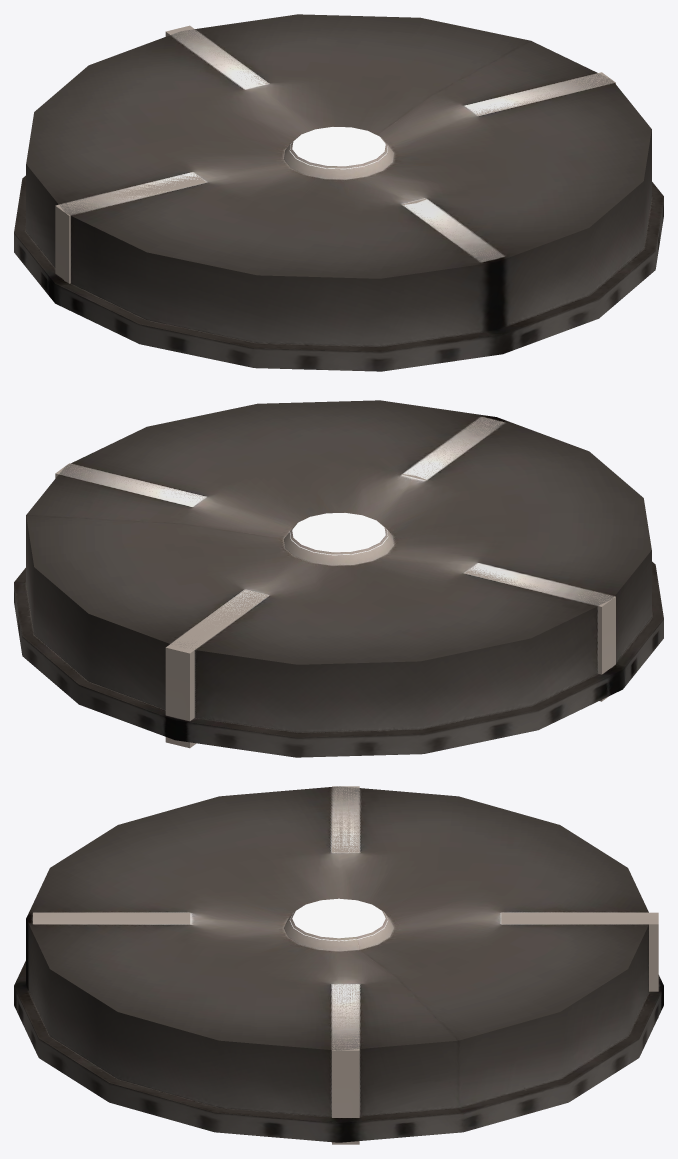
File: Stage-transformed.glb
The picture shows the model from 3 angles, top to bottom: view 1: azimuth 30°, elevation 25°; view 2: azimuth 150°, elevation 25°; view 3: azimuth 270°, elevation 25°; orthographic projection.
Visible parts, largest first — view 1: stage; view 2: stage; view 3: stage.
Boxes of the visible parts, x1=… form: stage: x1=14, y1=14, x2=663, y2=371; stage: x1=14, y1=400, x2=663, y2=757; stage: x1=14, y1=786, x2=663, y2=1144.
Bounding box in the file's own units: 29.45 × 4.78 × 29.45.
Materials: 2 (1 with a texture image).
